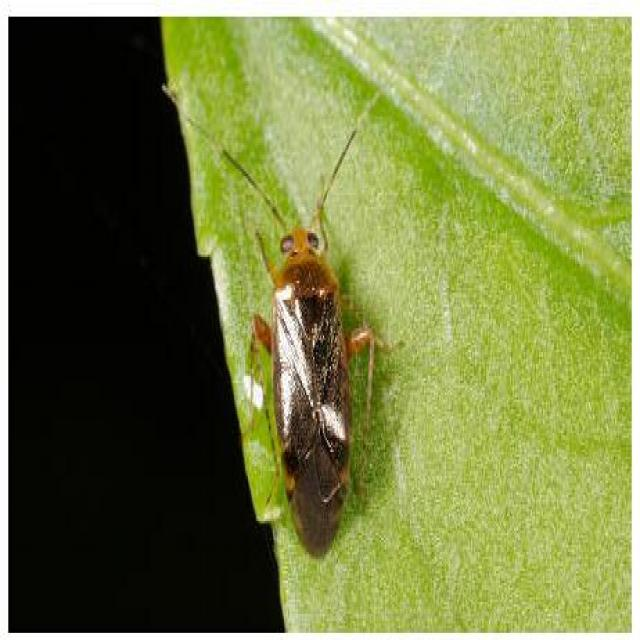Miridae-Adult-: (222, 81, 392, 564)
